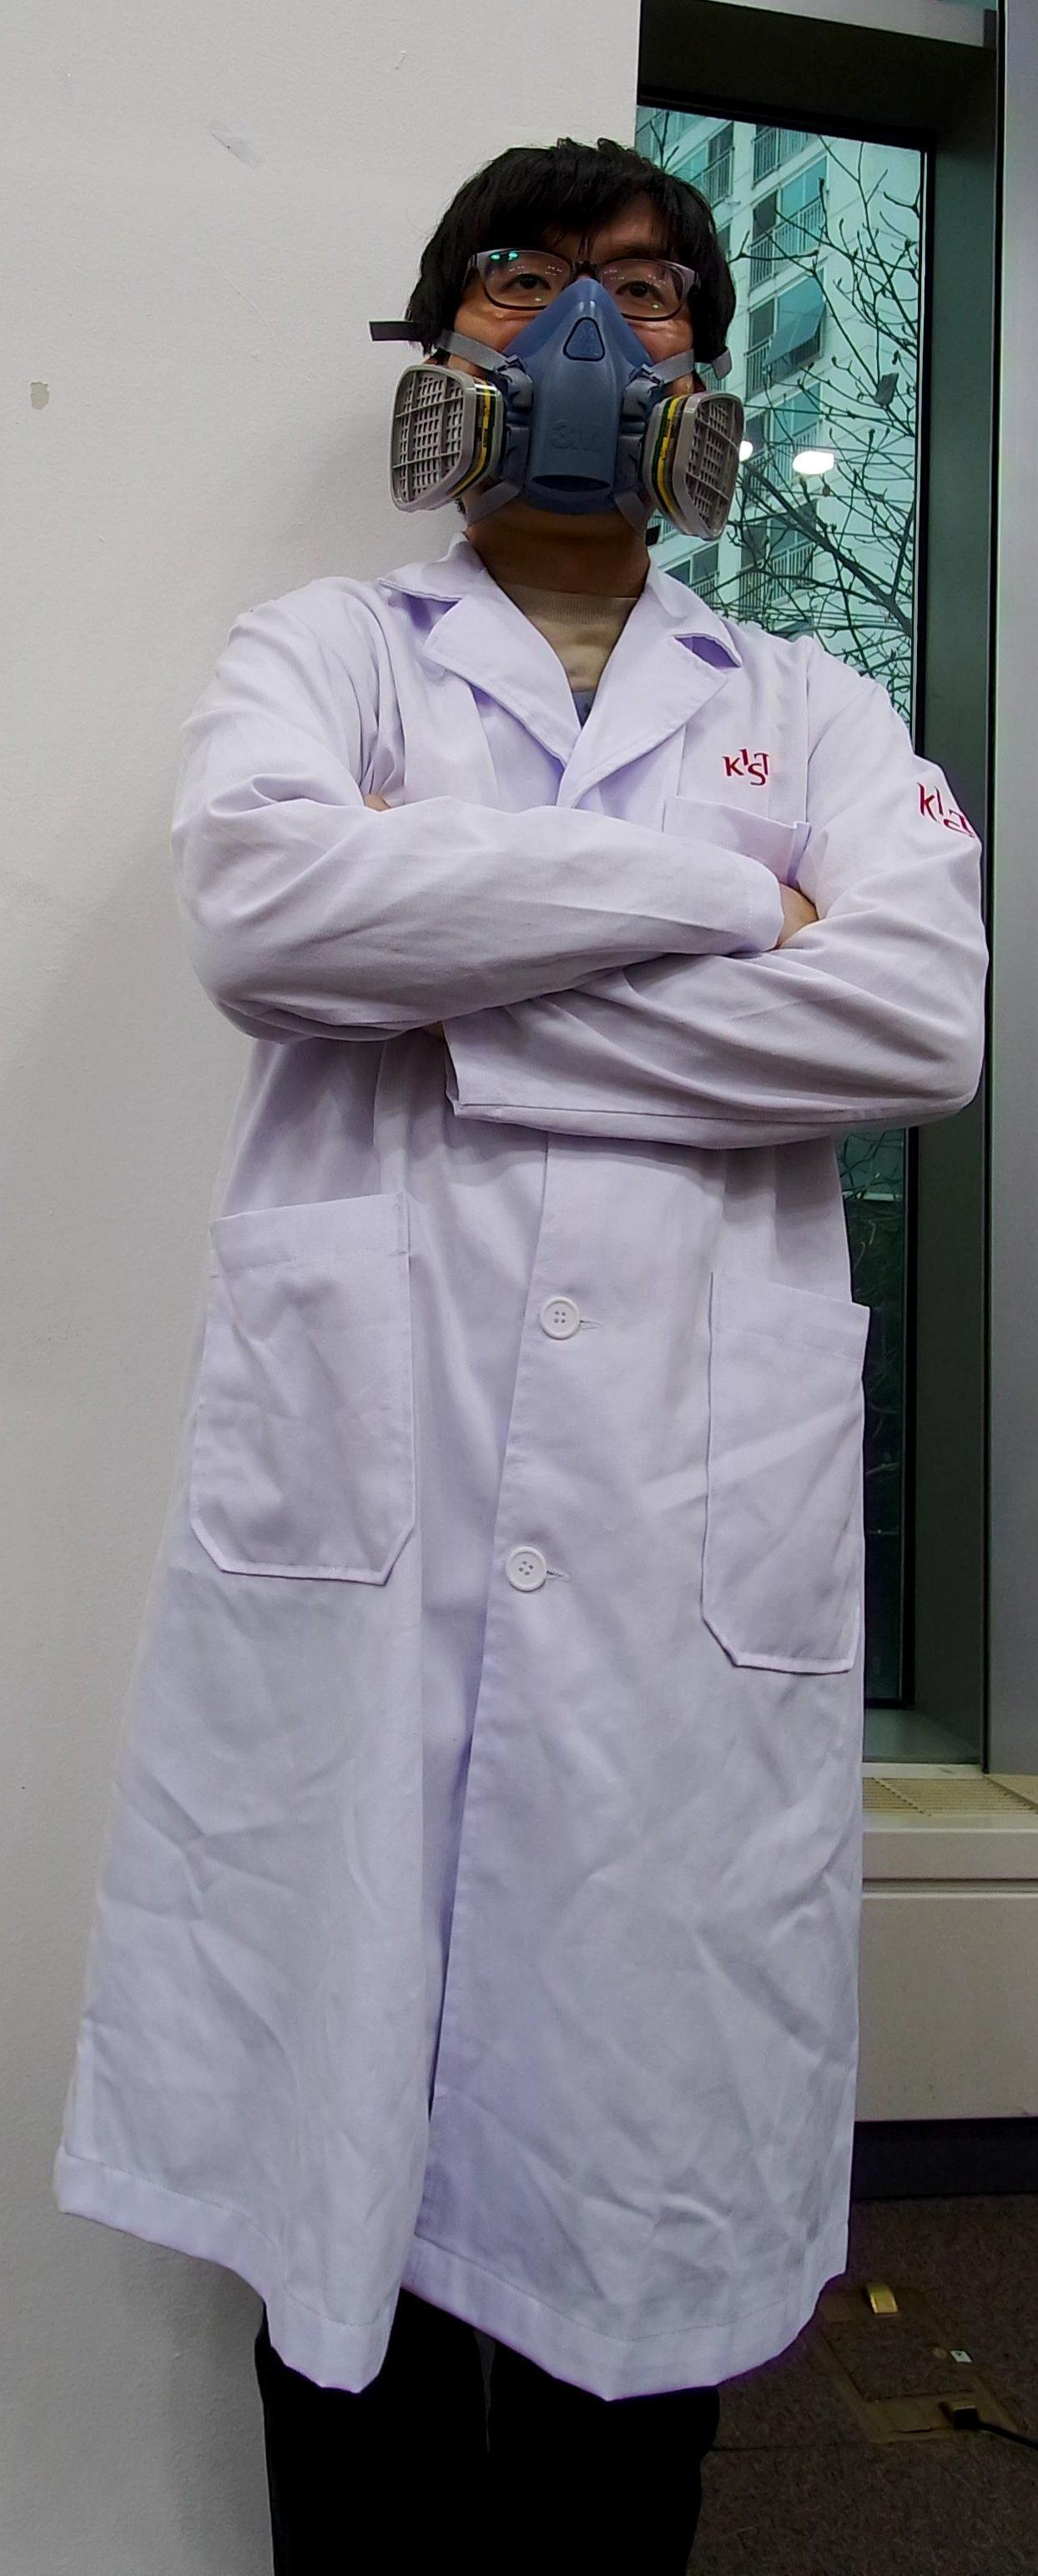lab_coat: (10, 623, 995, 2374)
